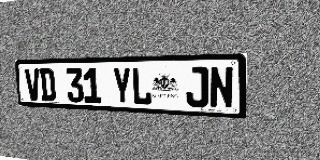1: (82, 68, 101, 103)
3: (66, 68, 84, 103)
D: (39, 68, 56, 101)
J: (186, 66, 209, 108)
L: (131, 67, 152, 105)
N: (209, 66, 234, 109)
V: (25, 68, 41, 101)
Y: (112, 67, 132, 105)
